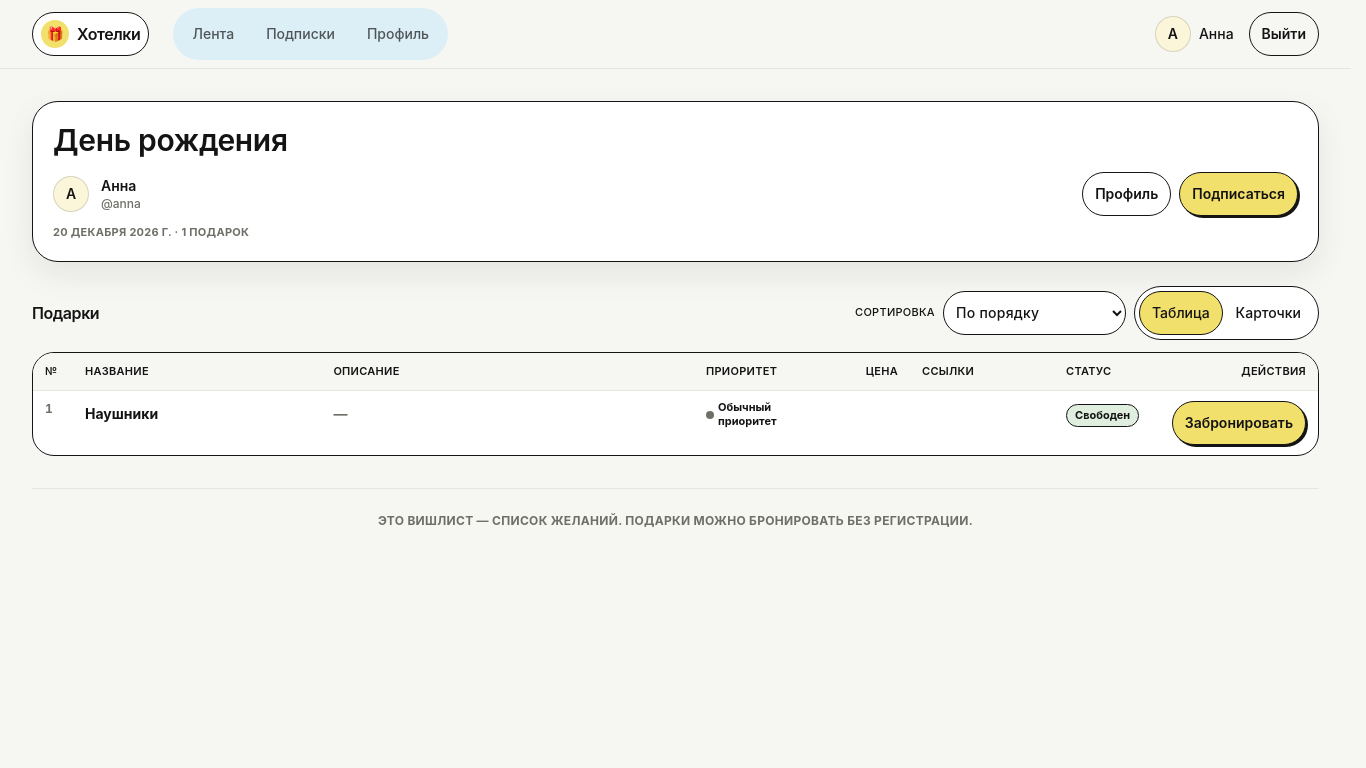
Scenario: владелец в шапке публичного вишлиста › залогиненный подписывается и отписывается, список обновляется повторным GET
Expected: the text "Наушники" is shown, top-left (85, 405), bottom-right (158, 422)
Click the button "Подписаться" at (1239, 194), box top-left (1179, 172), bottom-right (1298, 216)
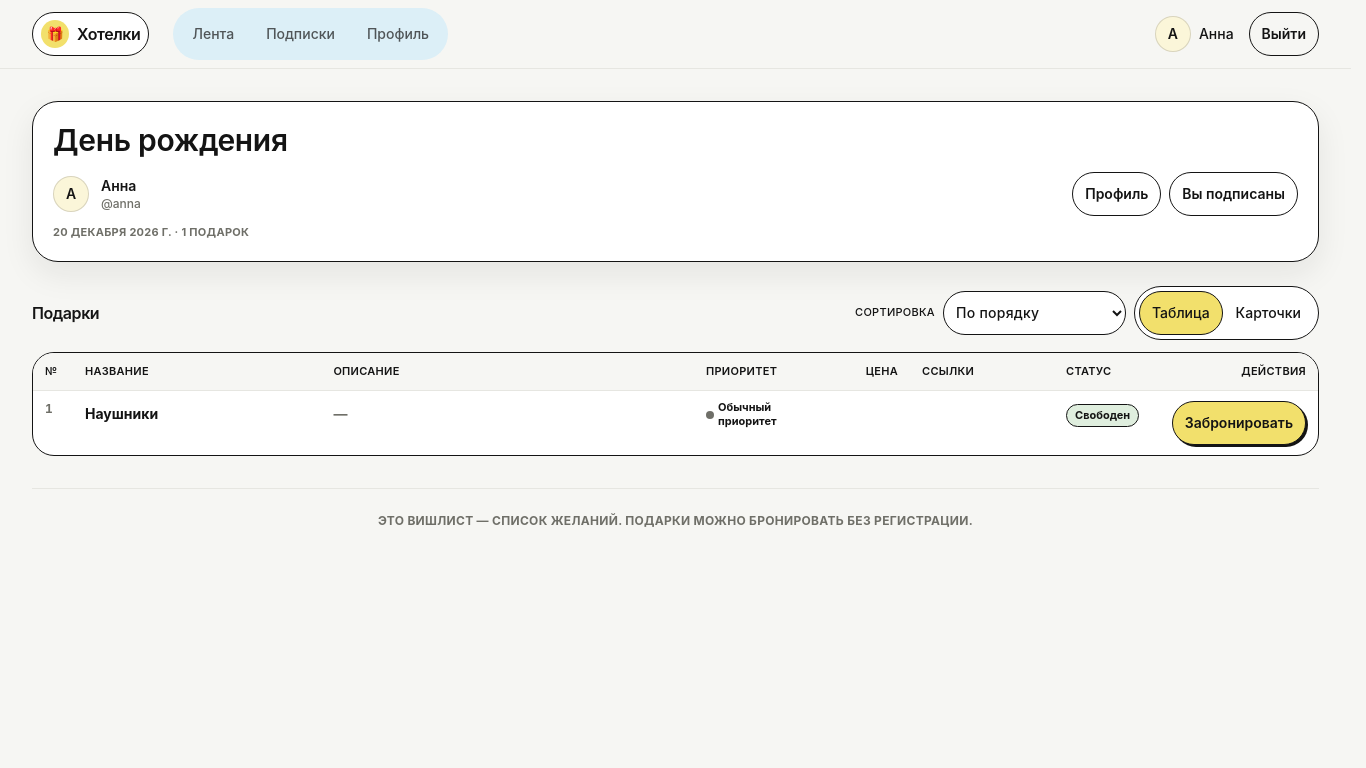
Expected: the button "Вы подписаны" is shown
Click the button "Вы подписаны" at (1234, 194), box top-left (1169, 172), bottom-right (1298, 216)
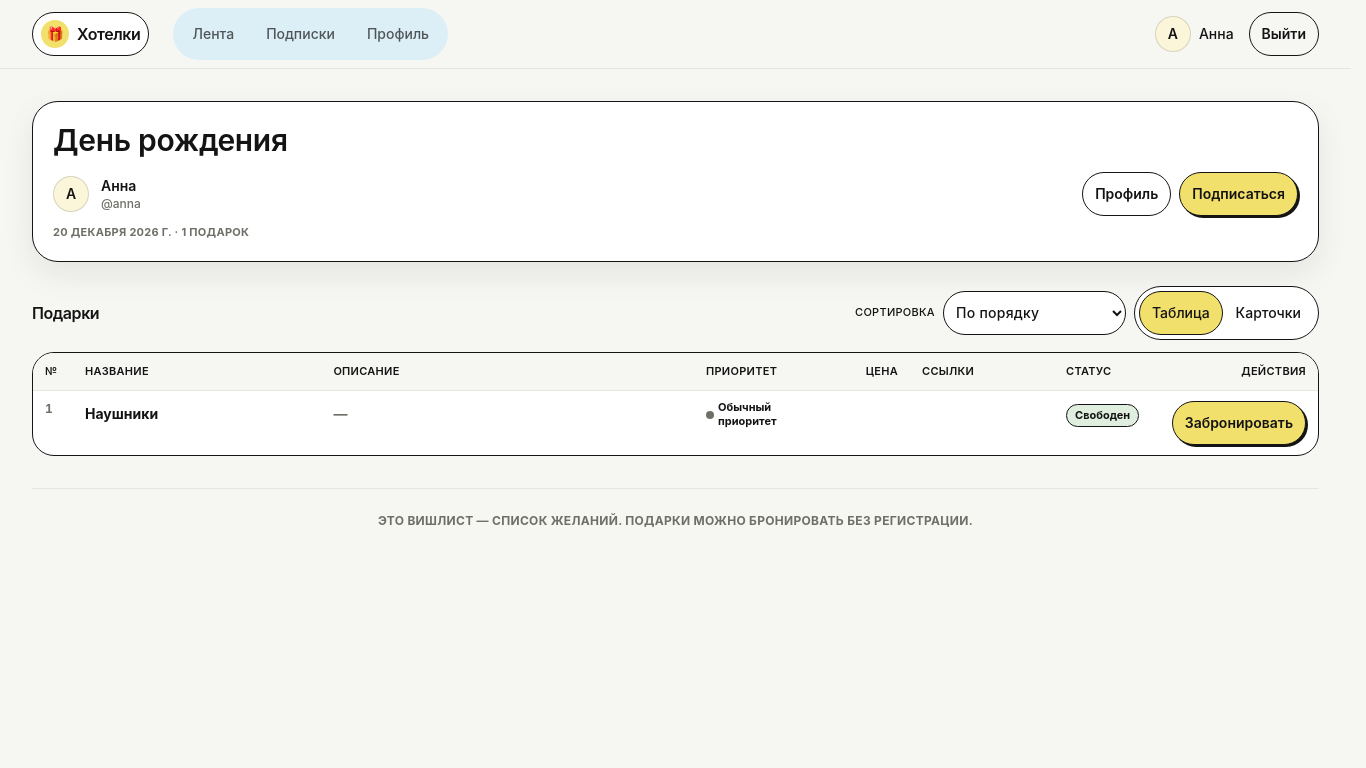
Expected: the button "Подписаться" is shown, top-left (1179, 172), bottom-right (1298, 216)
